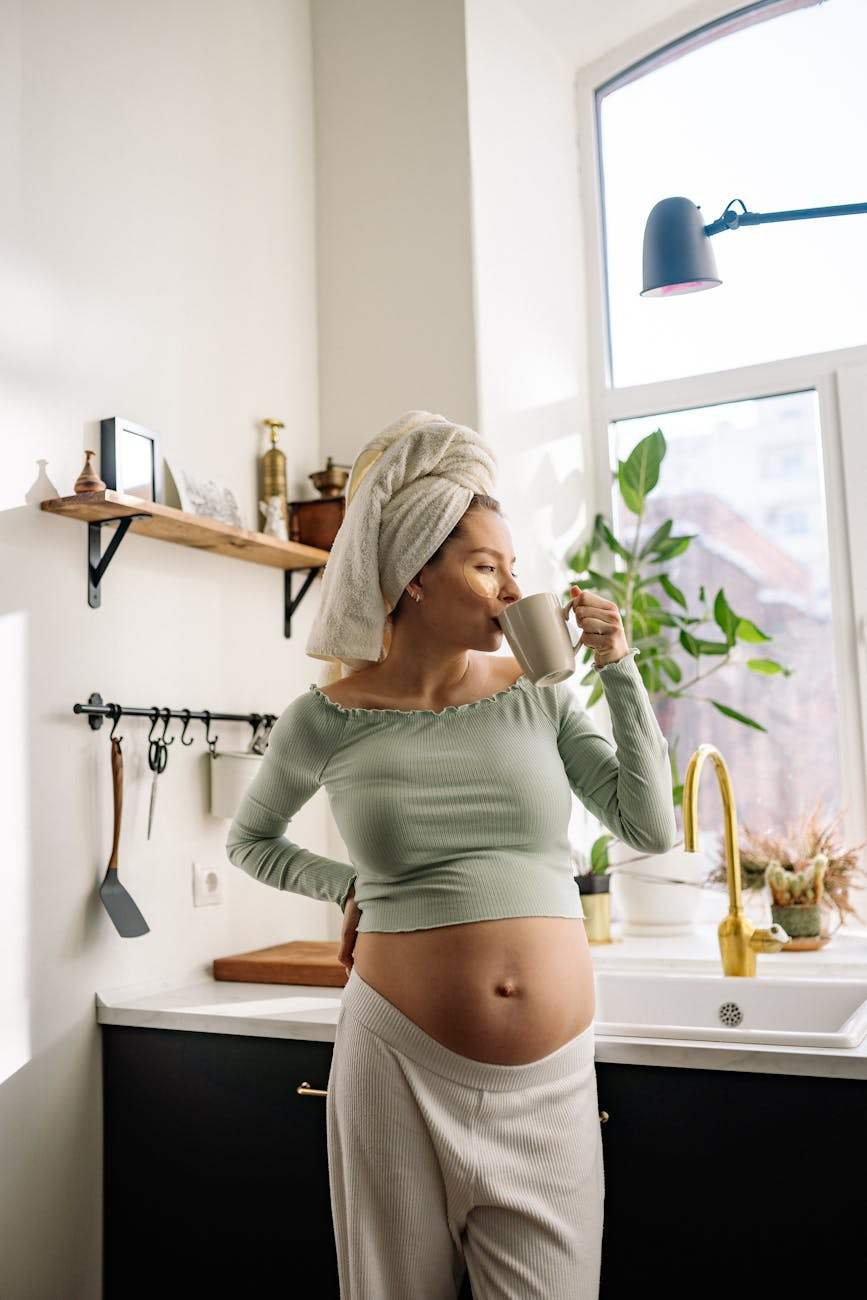crop_top: (280, 666, 625, 939)
